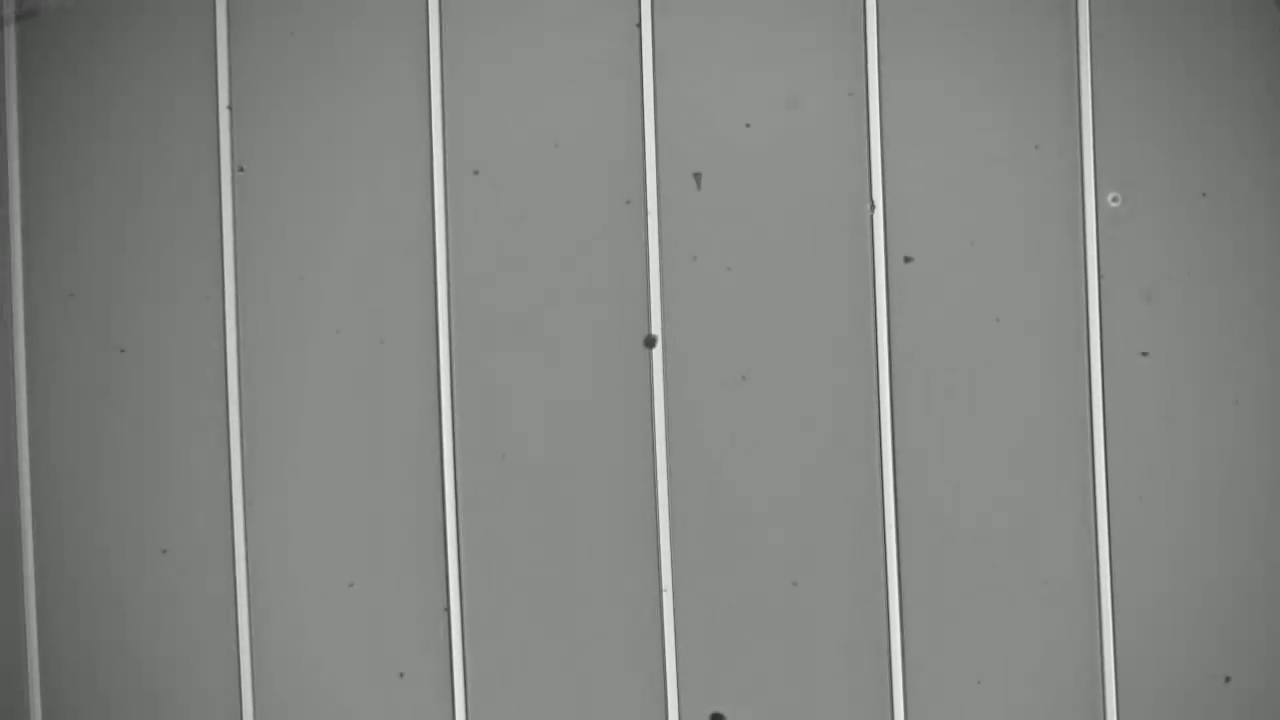stains_enbedded: (638, 325, 674, 357)
